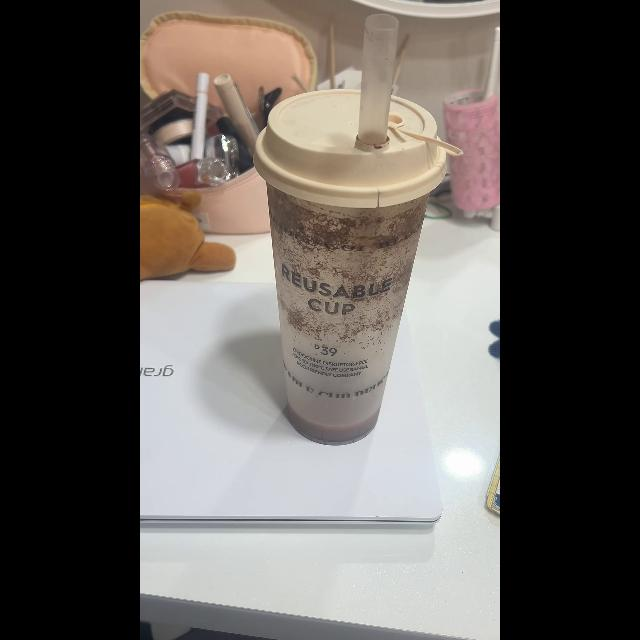dirty: (266, 182, 429, 446)
